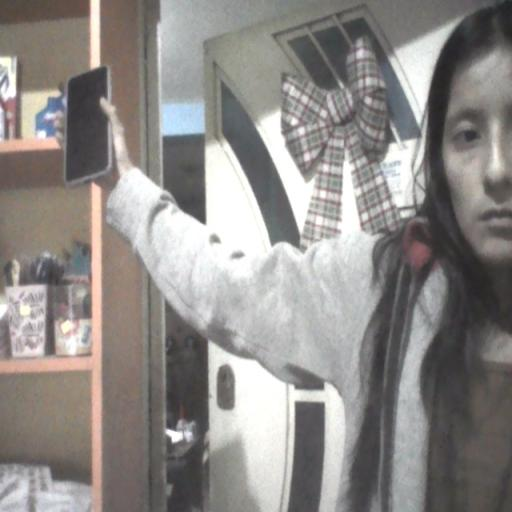phone: (64, 62, 117, 186)
